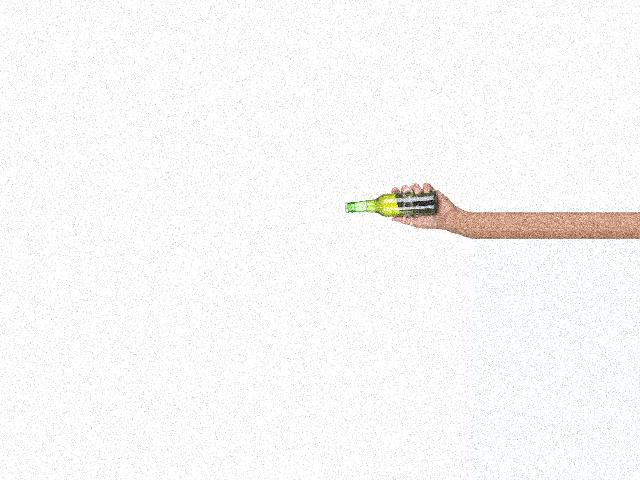beer: (344, 192, 437, 217)
